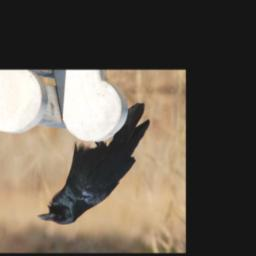Crow: (37, 102, 151, 225)
